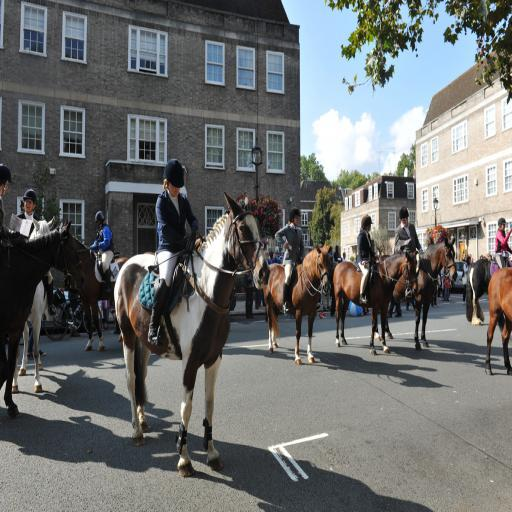Horse: (112, 191, 271, 478), (0, 220, 87, 420), (374, 235, 460, 353), (331, 250, 418, 356), (61, 220, 128, 354), (262, 244, 332, 365), (11, 217, 58, 393), (464, 258, 512, 327), (483, 268, 511, 379)
